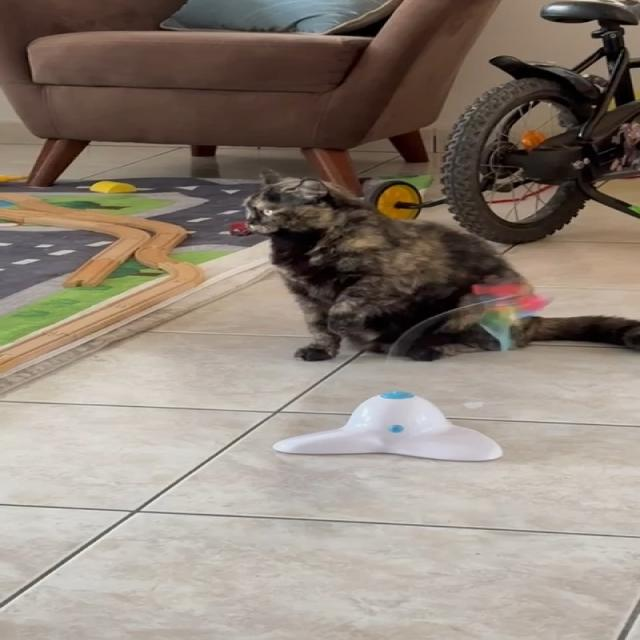authorized: (238, 168, 638, 362)
